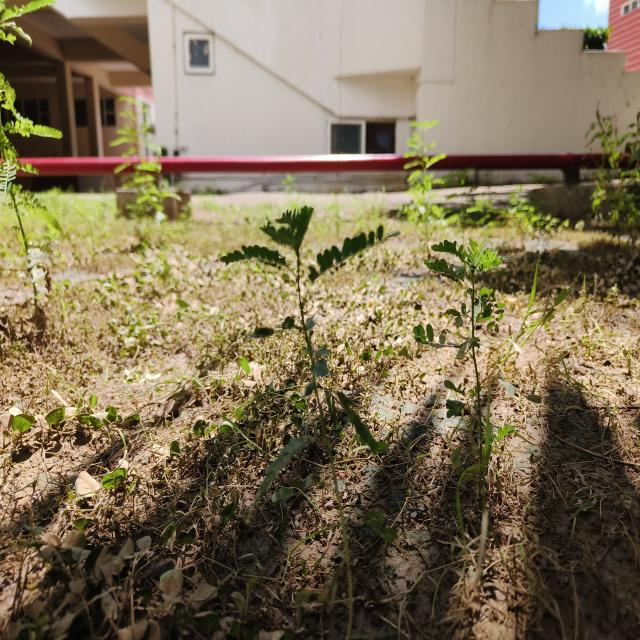weed: (214, 192, 398, 433), (410, 237, 516, 470)
